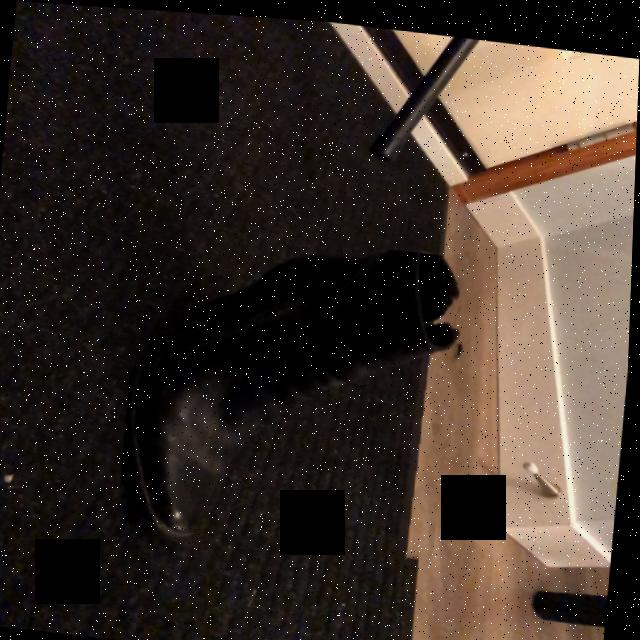shoe: (126, 245, 464, 540)
